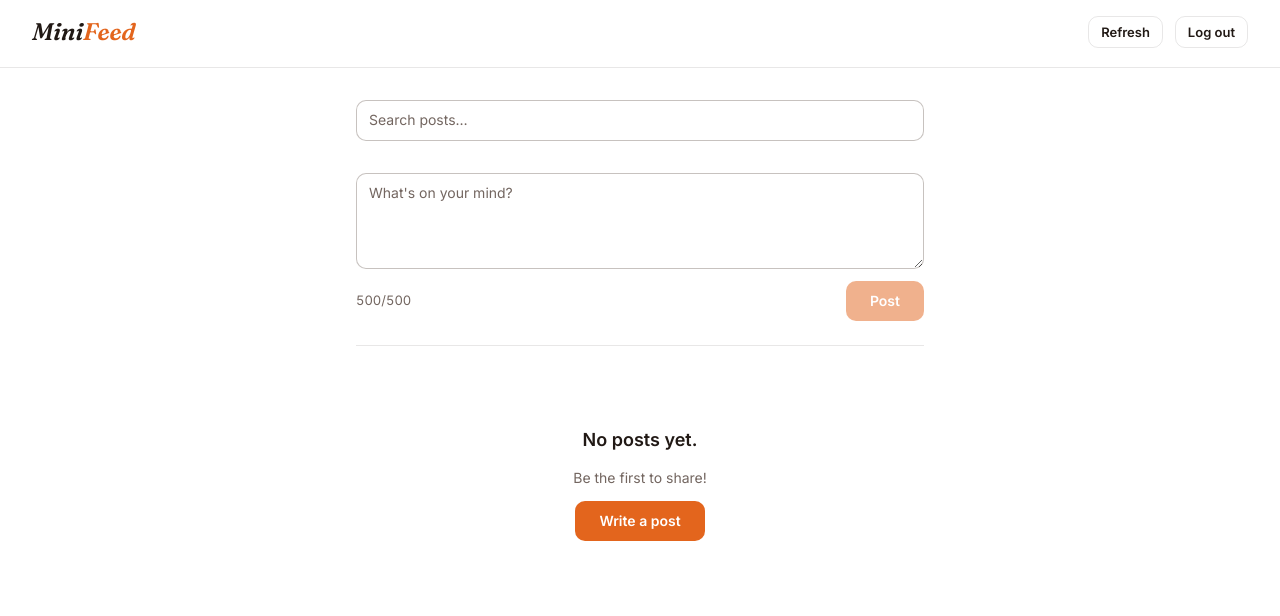
Test: FeedPage › shows the rate limit banner when post creation returns 429
This screenshot has width=1280, height=616.
Type "spam" into the text box with placeholder "What's on your mind?" at (640, 221), box [356,173,924,269]
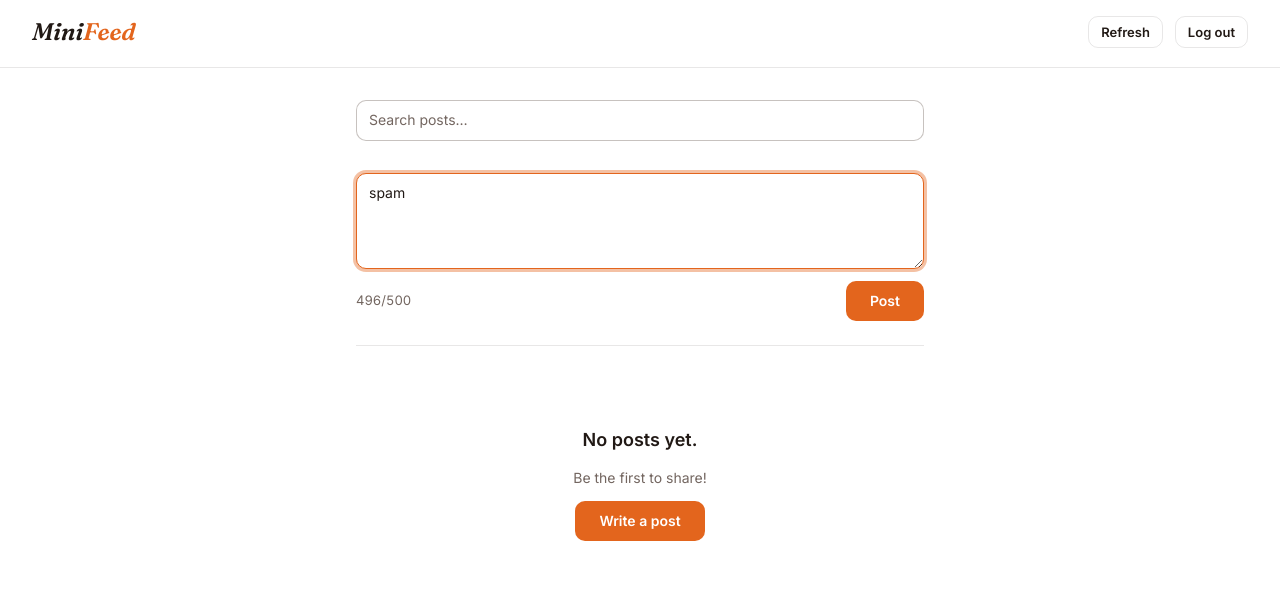
Click the button "Post" at (885, 301), box [846,281,924,321]
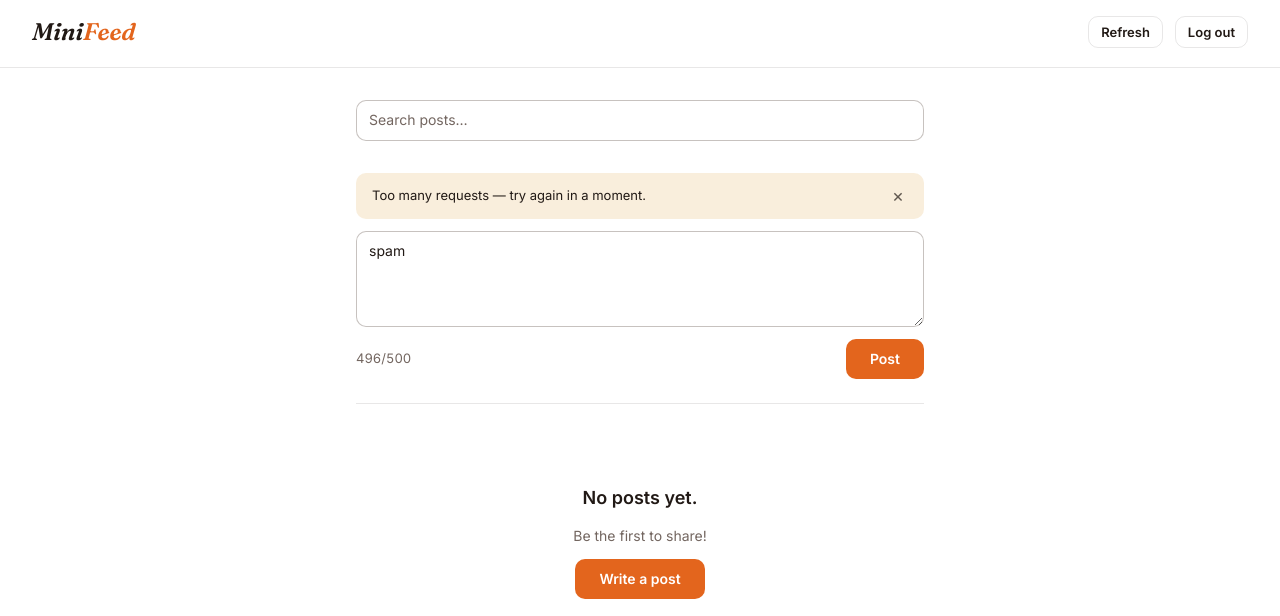
Result: the text "Too many requests — try again in a moment." is shown at [372,185,646,206]
